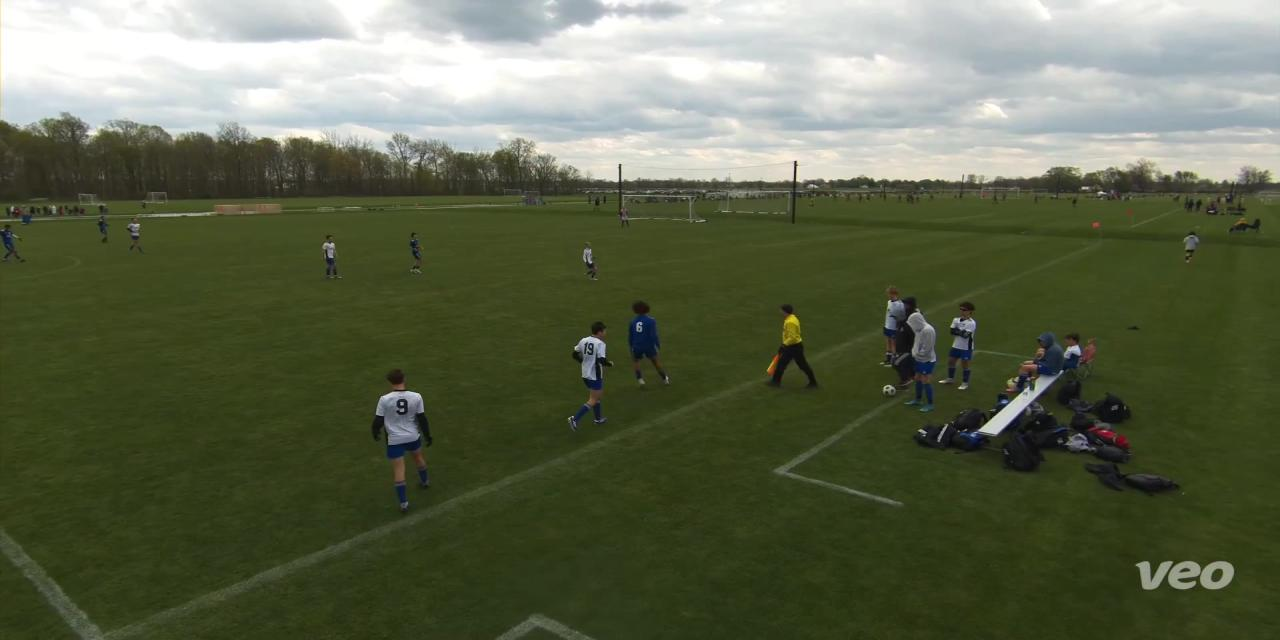goal: (614, 190, 716, 228)
sports ball: (879, 378, 900, 399)
